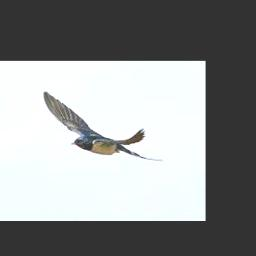Swallow: (43, 90, 163, 162)
